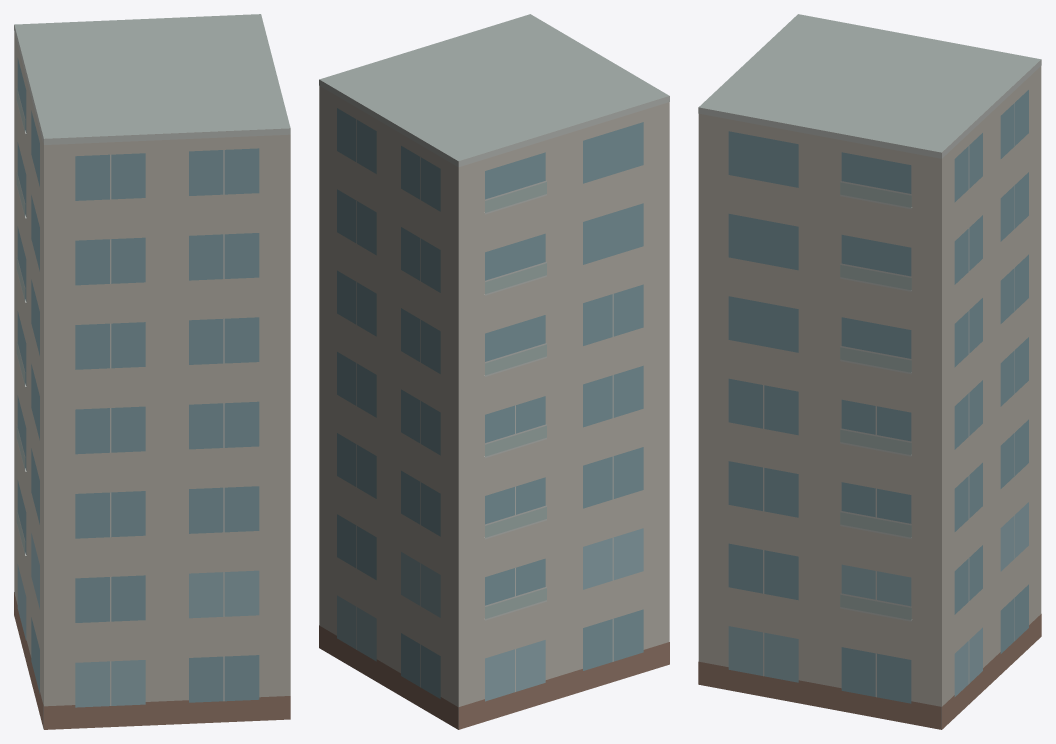
Rendered from survey-upis-32534984.glb.
The picture shows the model from 3 angles, left to right: view 1: azimuth 30°, elevation 25°; view 2: azimuth 150°, elevation 25°; view 3: azimuth 270°, elevation 25°; orthographic projection. The views are drawn at different scales.
Visible parts, largest first — view 1: survey-upis-32534984.tmp; view 2: survey-upis-32534984.tmp; view 3: survey-upis-32534984.tmp.
Boxes of the visible parts, x1,y1,x2,y2 form: survey-upis-32534984.tmp: (14,14,290,729); survey-upis-32534984.tmp: (319,14,669,729); survey-upis-32534984.tmp: (698,14,1041,729).
Size of the model in its own units: 11.75 by 22.8 by 12.29.
